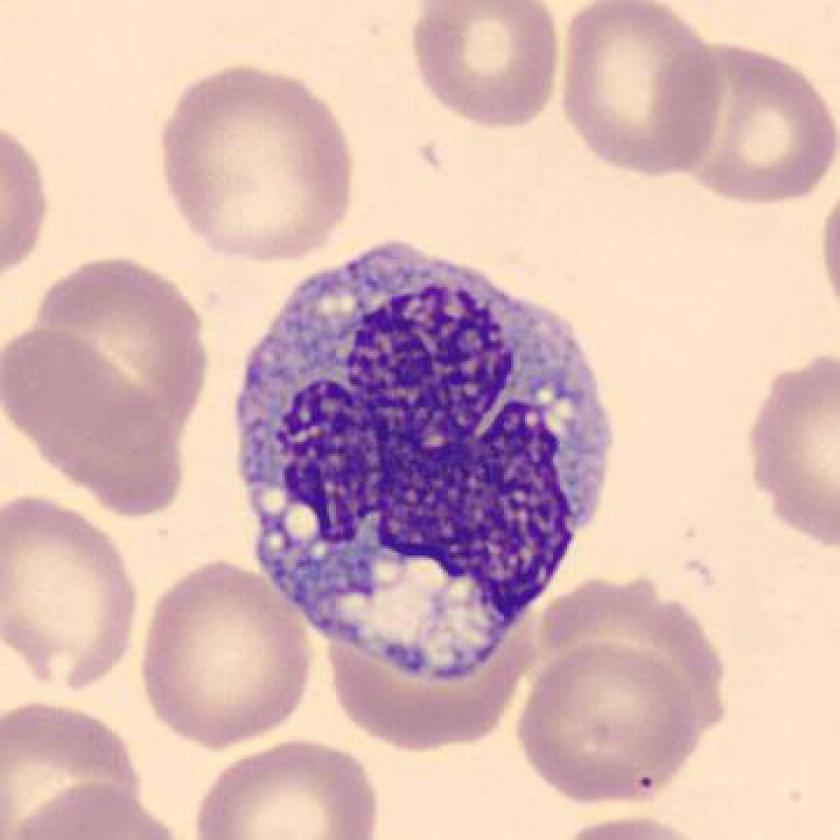monocyte: (218, 223, 624, 686)
